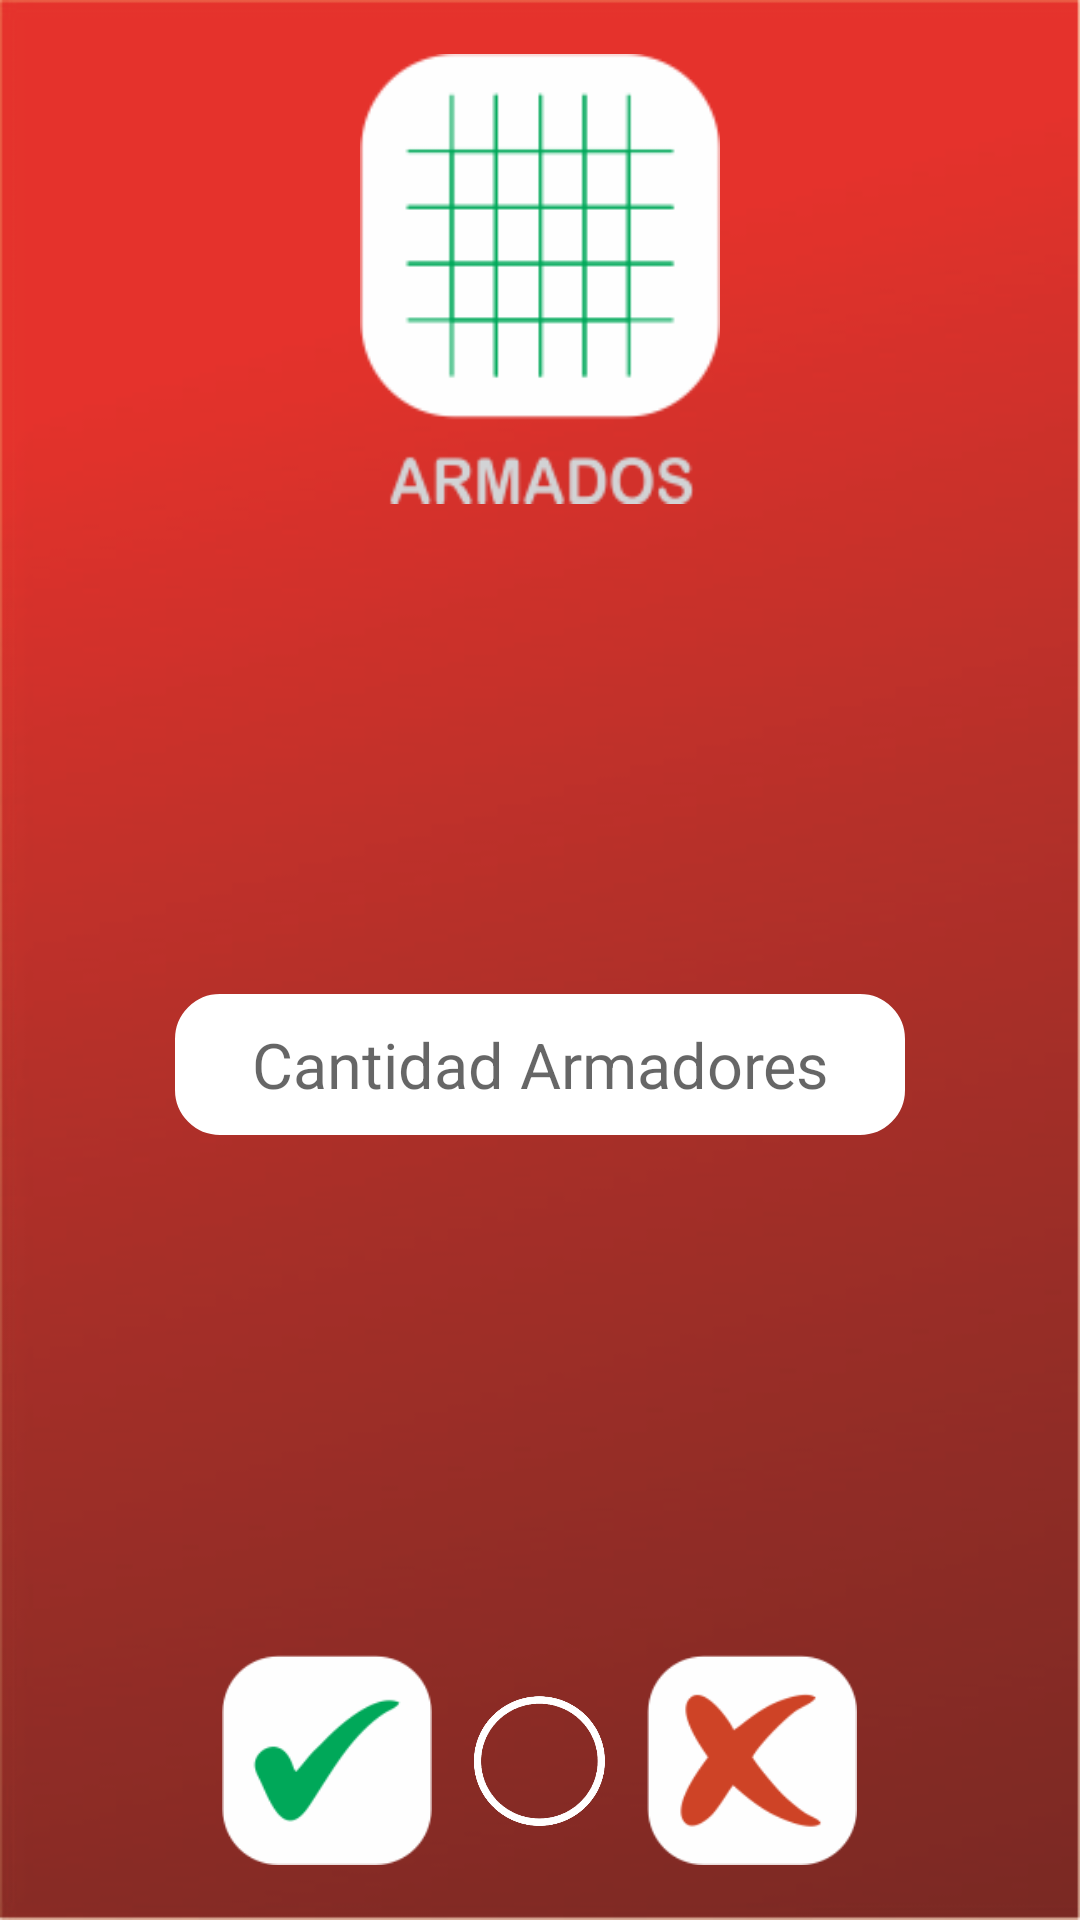

Screen size 1080 × 1920. Icon name, then its box in pixels as [x1=x1, y1=y1, x2=x2, y2=y2]:
cancelar: [x1=647, y1=1655, x2=857, y2=1865]
